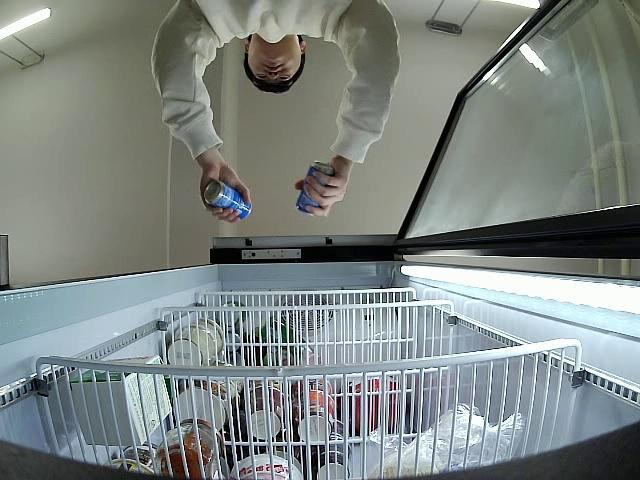00_hand: (294, 166, 348, 220), (200, 168, 251, 224)
15_letsbe: (297, 161, 336, 217), (204, 183, 252, 221)
